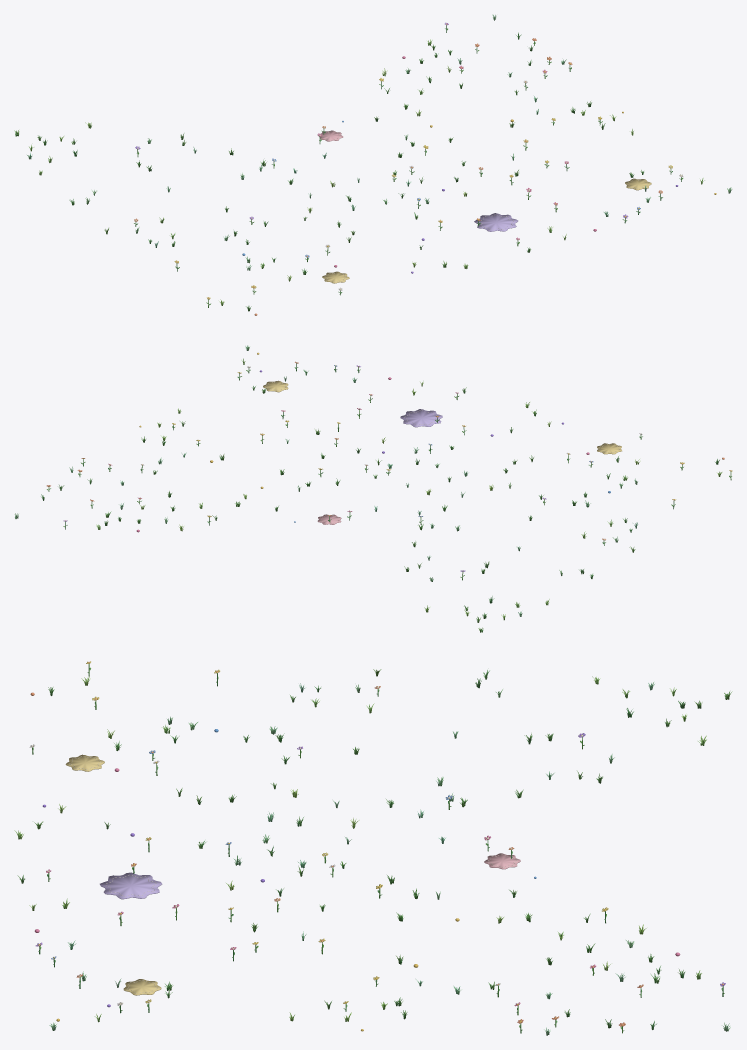
Rendered from W1_RoomFlora.fbx.
The picture shows the model from 3 angles, top to bottom: view 1: azimuth 30°, elevation 25°; view 2: azimuth 150°, elevation 25°; view 3: azimuth 270°, elevation 25°; orthographic projection. The views are drawn at different scales.
Parts seen in each view (by area): view 1: W1_RoomFlora; view 2: W1_RoomFlora; view 3: W1_RoomFlora.
Part boxes in pixels (x1,y1,x2,y2): W1_RoomFlora: (14, 14, 732, 315); W1_RoomFlora: (14, 345, 732, 632); W1_RoomFlora: (14, 661, 732, 1035).
Bounding box in the file's own units: 7.46 × 0.1791 × 6.25.
